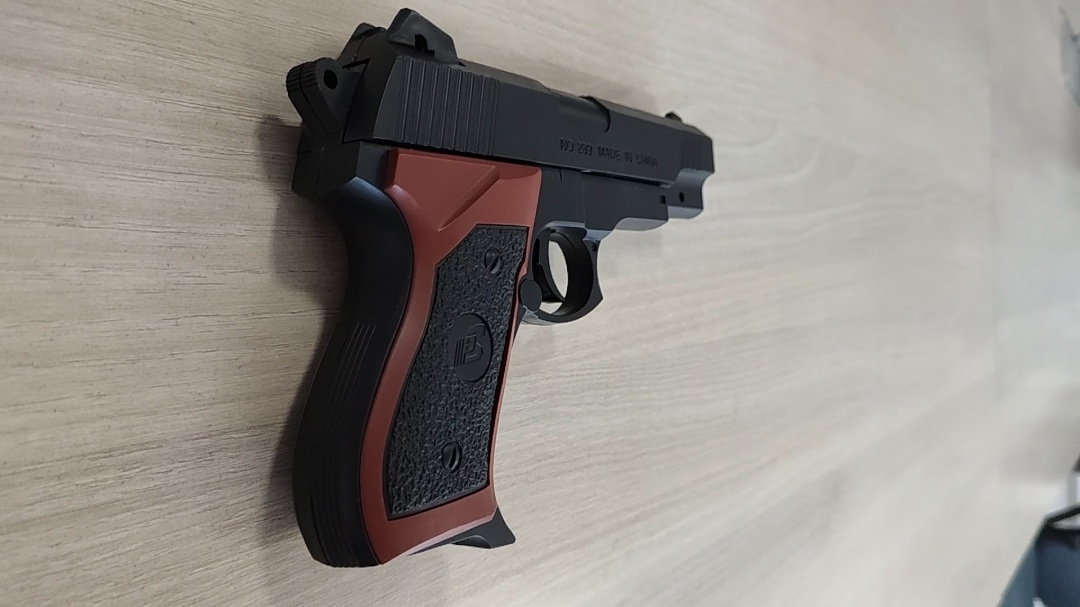gun: (451, 191, 528, 222)
